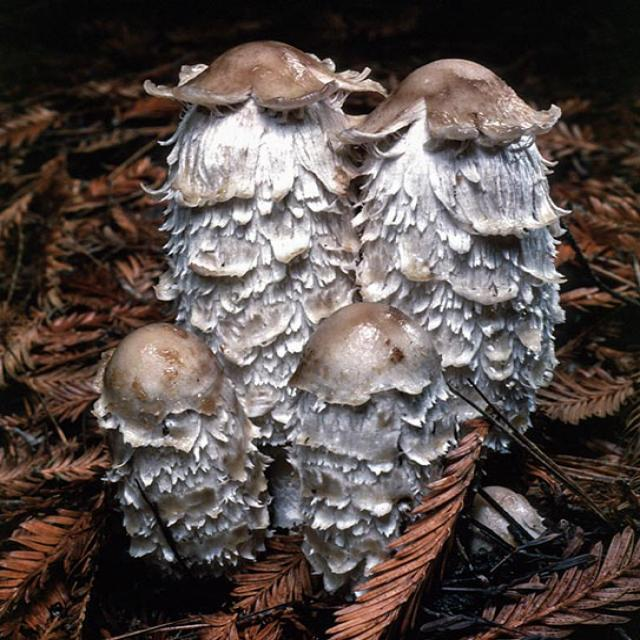Coprinus comatus: (144, 38, 382, 532), (348, 56, 561, 477), (102, 323, 269, 560), (297, 306, 436, 555)
